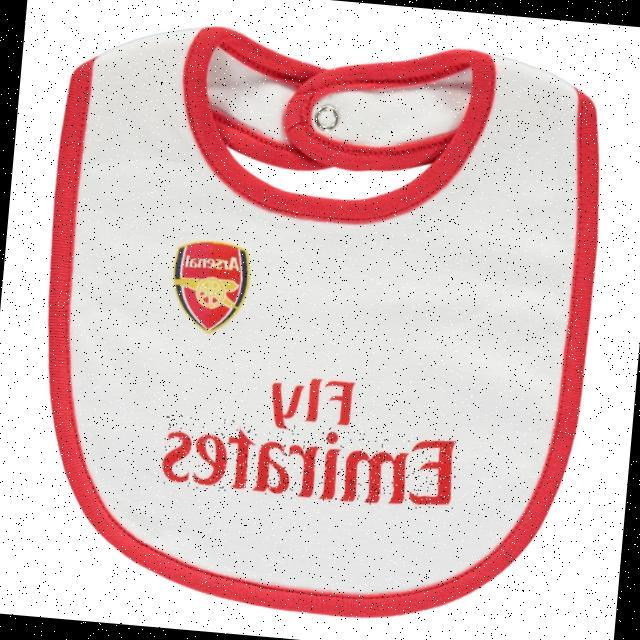Emirates: (159, 413, 459, 513)
